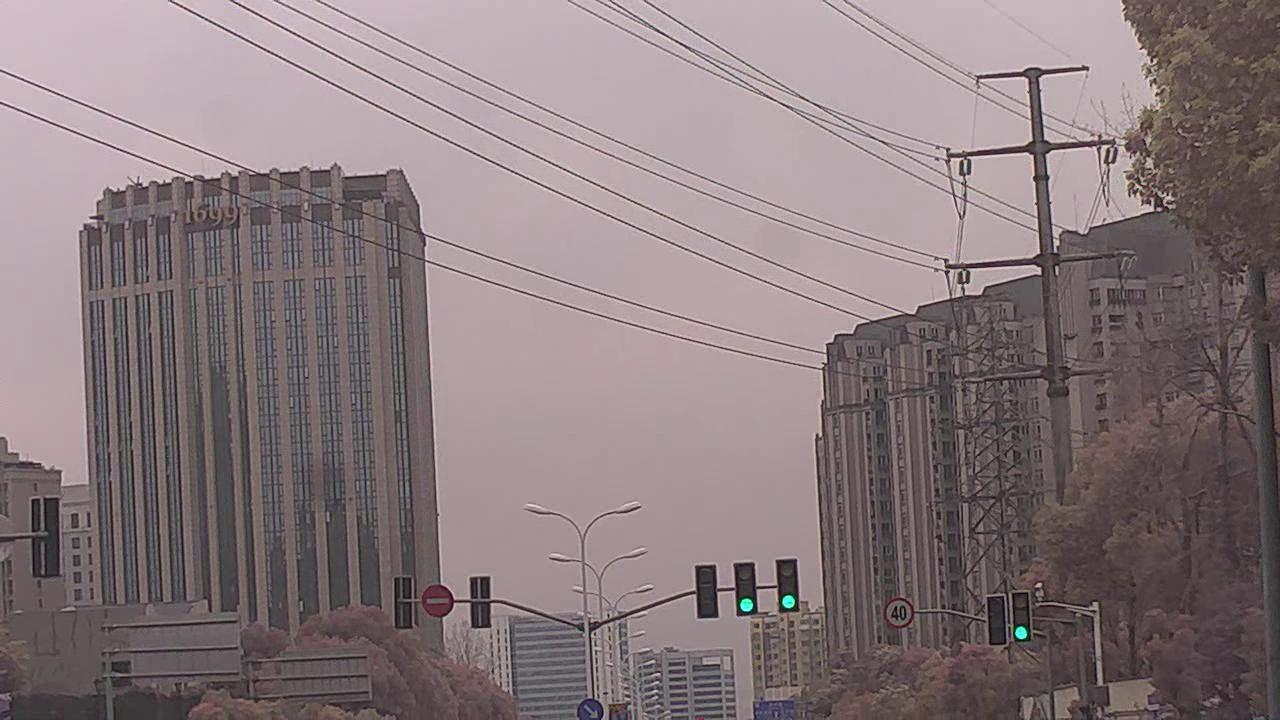traffic_light: (734, 561, 759, 616), (778, 558, 801, 615), (695, 565, 718, 619), (1011, 591, 1030, 645), (985, 594, 1005, 645)
